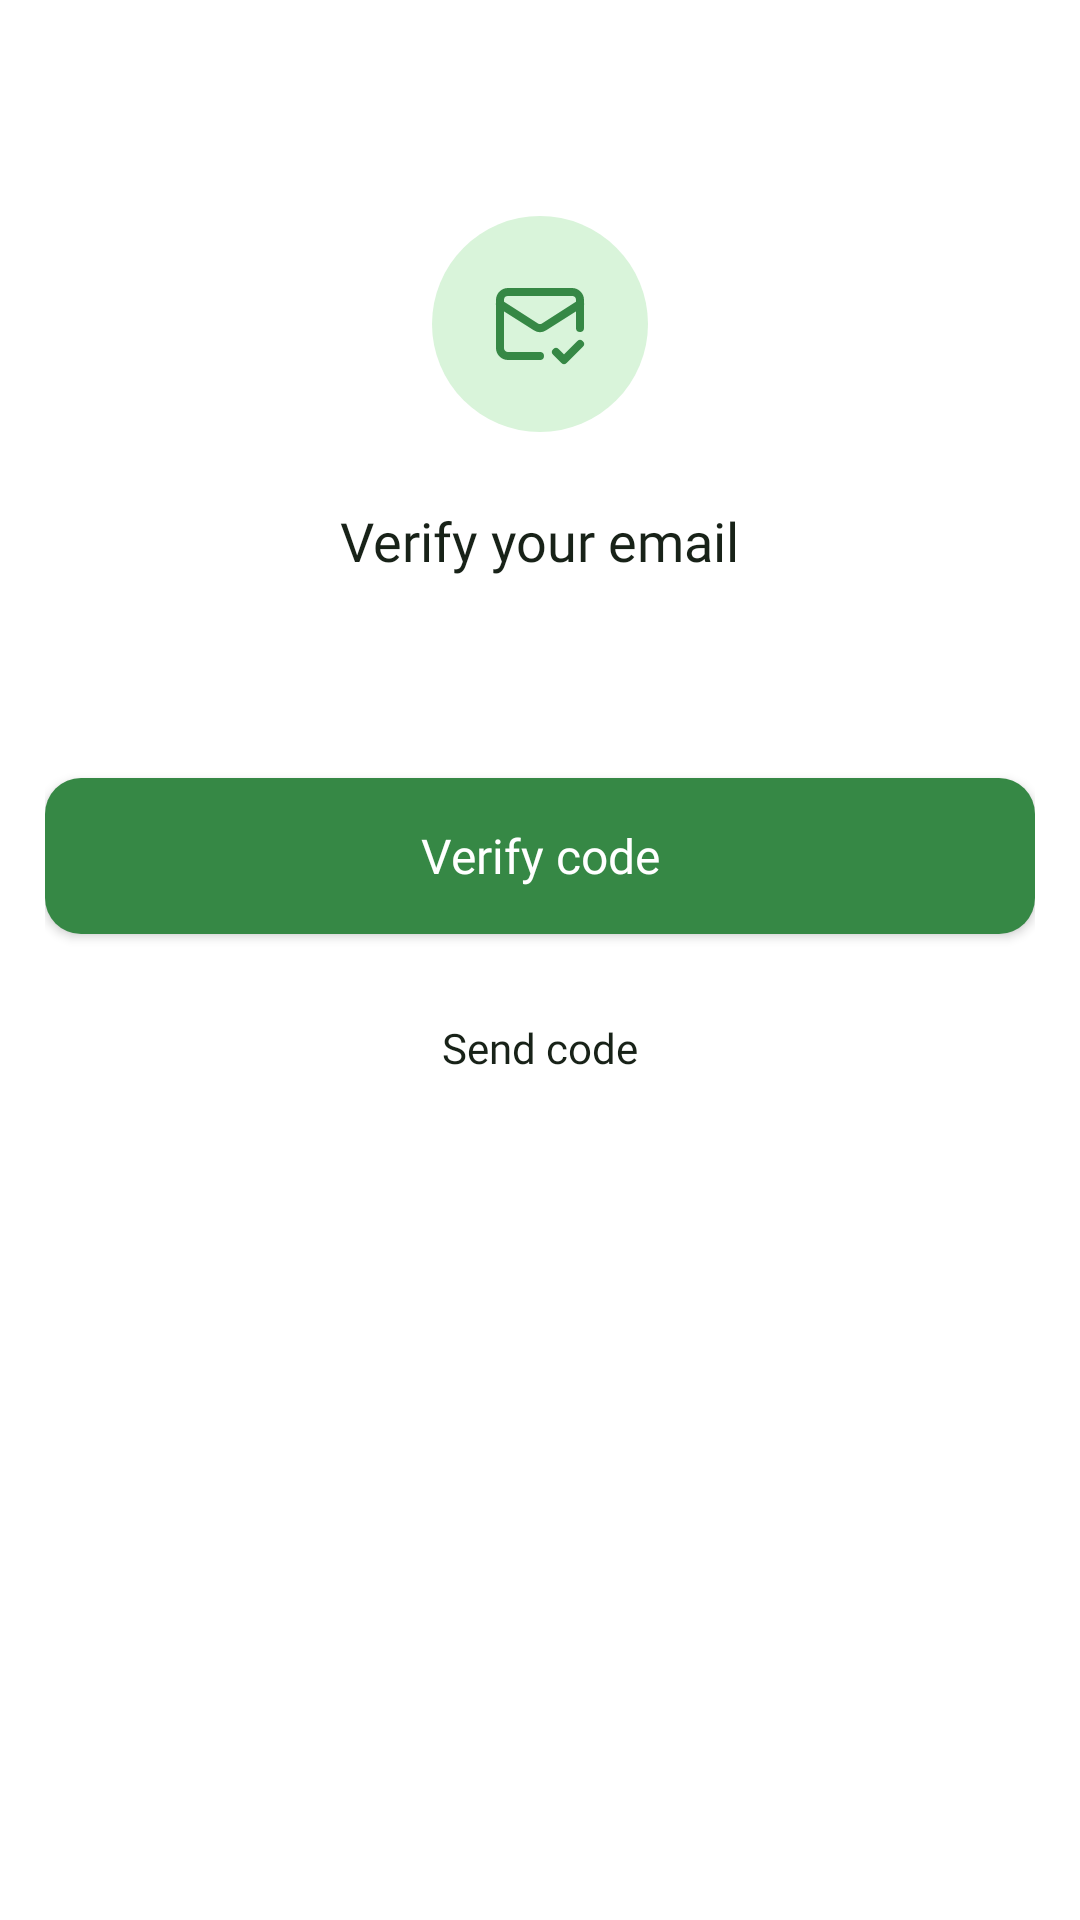

Where icons sit on this 1080px x 1920px app screen, as (x1, y1, x2, y2):
Confirm your email (local demo): (496, 288, 584, 364)
